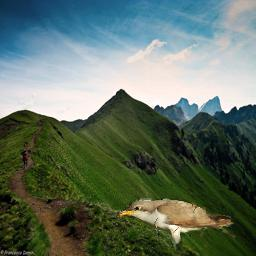Cuckoo: (116, 198, 235, 255)
